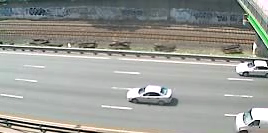car: (124, 82, 176, 109), (232, 105, 268, 132), (232, 58, 267, 81)
